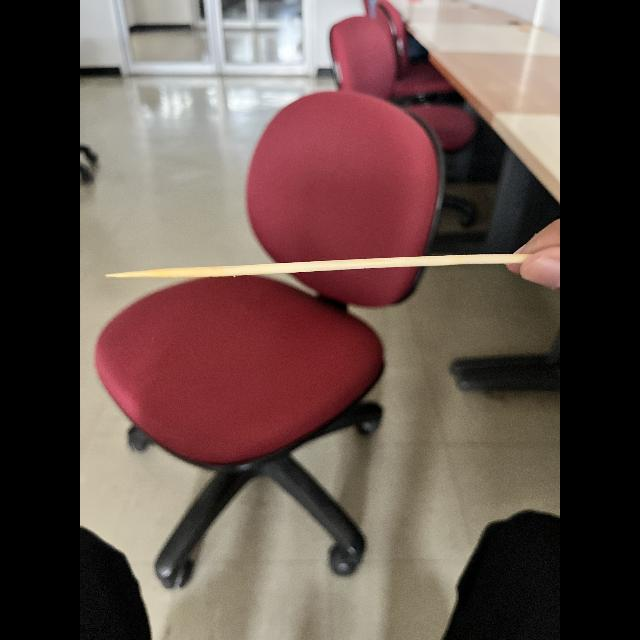stick: (99, 250, 541, 290)
